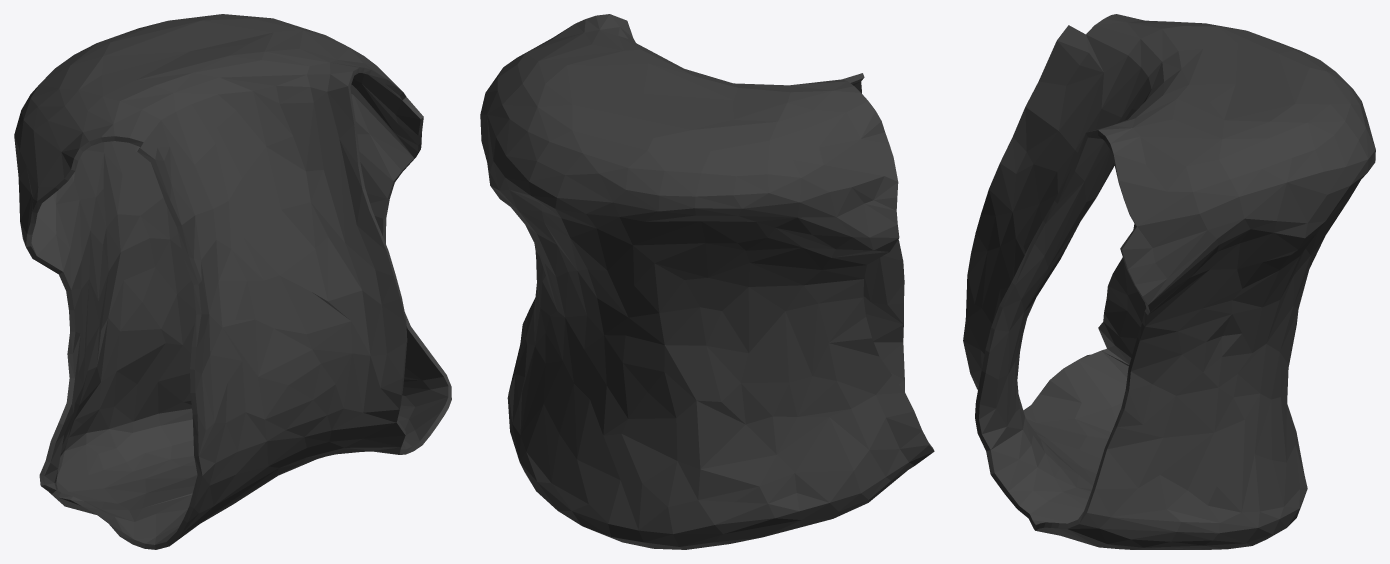
Rendered from t6_body.glb.
The picture shows the model from 3 angles, left to right: view 1: azimuth 30°, elevation 25°; view 2: azimuth 150°, elevation 25°; view 3: azimuth 270°, elevation 25°; orthographic projection. The views are drawn at different scales.
Visible parts, largest first — view 1: t6_body; view 2: t6_body; view 3: t6_body.
Boxes of the visible parts, x1,y1,x2,y2 form: t6_body: (14,14,451,549); t6_body: (480,14,934,549); t6_body: (963,14,1375,549).
Size of the model in its own units: 19.9 by 20.32 by 16.88.
Materials: 1 (1 with a texture image).
